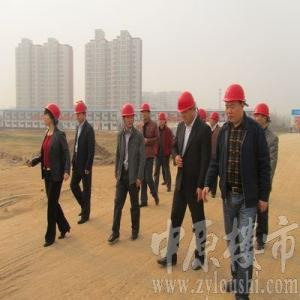red: (225, 84, 247, 123), (177, 91, 197, 123), (44, 102, 61, 129), (254, 102, 271, 128), (122, 104, 136, 128), (74, 101, 88, 124), (141, 103, 151, 120), (211, 112, 220, 128), (159, 112, 167, 127)
